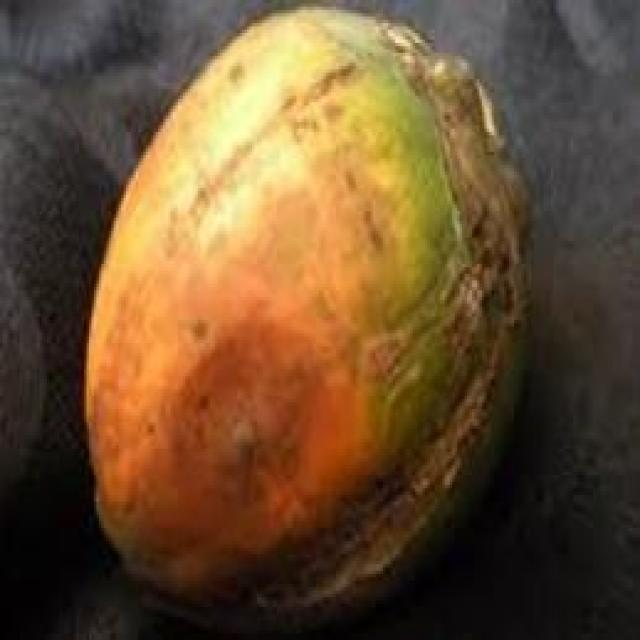good: (77, 10, 534, 637)
